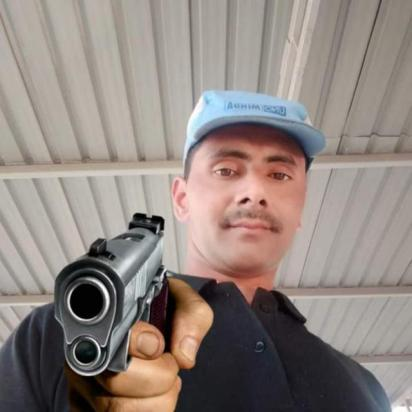Gun: (48, 209, 191, 412)
